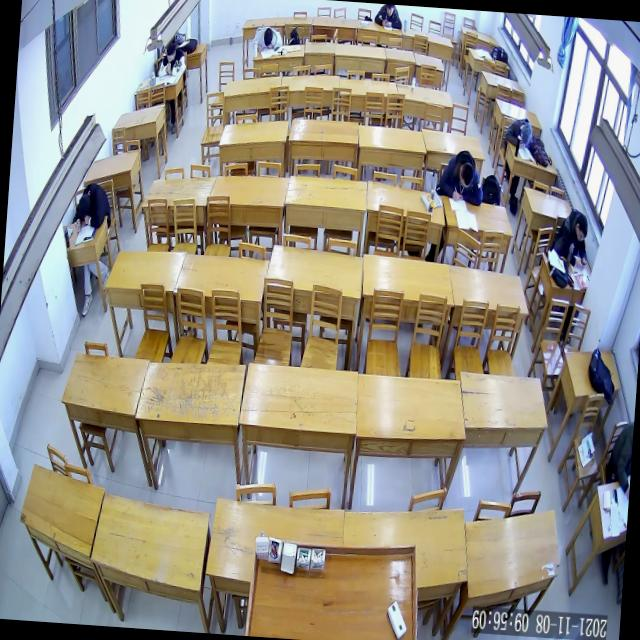bow: (438, 148, 486, 206), (73, 182, 113, 233), (504, 116, 533, 147), (250, 25, 282, 53)
down: (574, 213, 588, 242), (459, 162, 474, 188), (77, 194, 91, 217), (520, 122, 532, 146), (262, 26, 274, 46), (166, 43, 176, 63)
sit: (554, 208, 590, 268), (158, 42, 187, 78)
